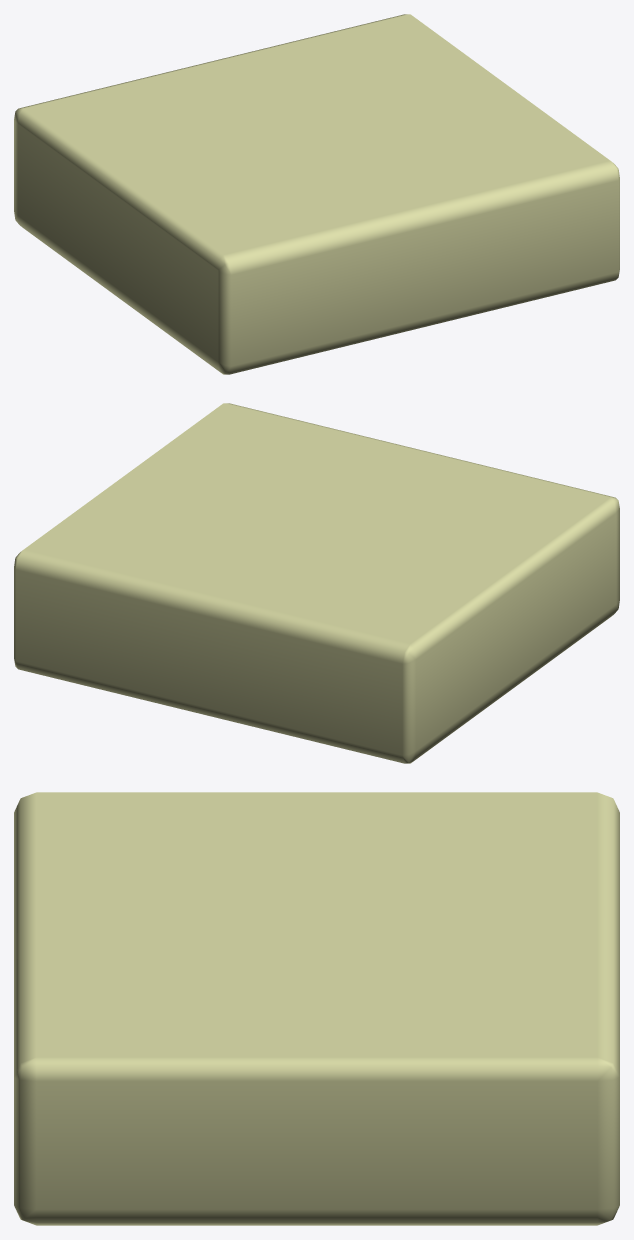
Rendered from platform4.glb.
3 renders of one model, top to bottom at view 1: azimuth 30°, elevation 25°; view 2: azimuth 150°, elevation 25°; view 3: azimuth 270°, elevation 25°, orthographic. The views are drawn at different scales.
Parts seen in each view (by area): view 1: platform; view 2: platform; view 3: platform.
Part boxes in pixels (<box>): platform: <box>14,14,619,374</box>; platform: <box>14,403,619,763</box>; platform: <box>14,792,619,1225</box>.
Bounding box in the file's own units: 1.68 × 0.4836 × 1.58.
